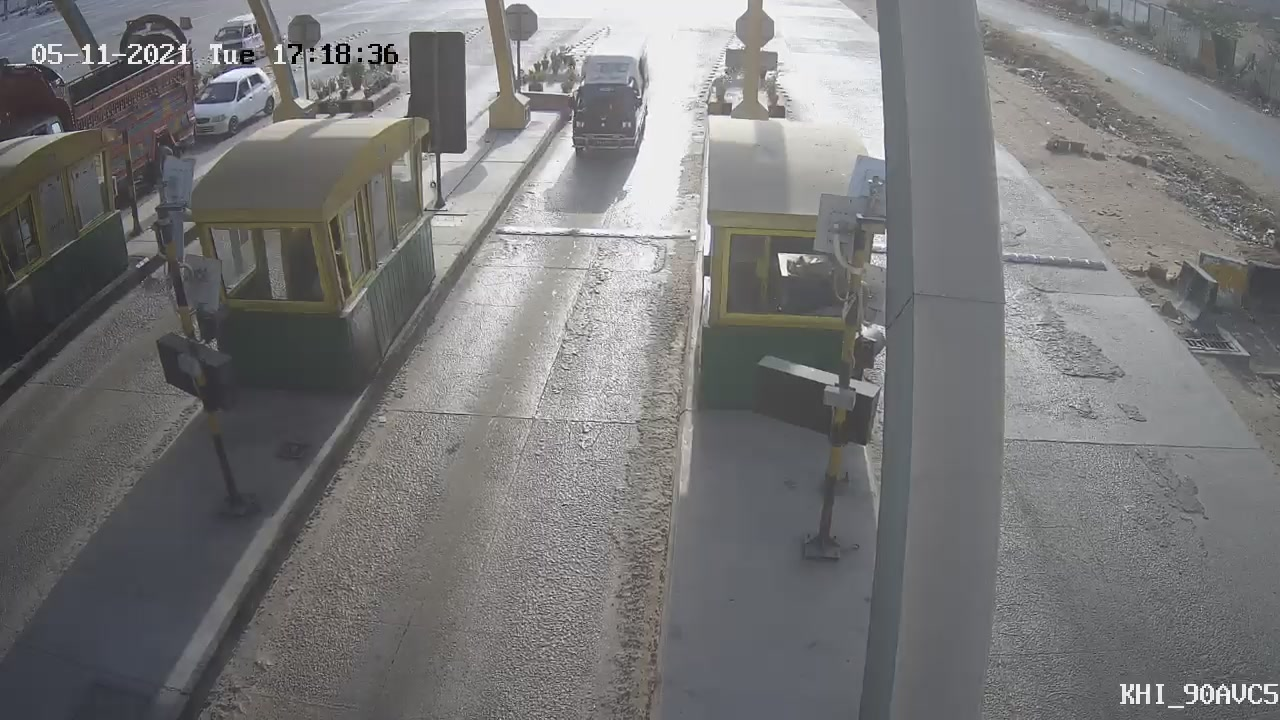F1: (550, 30, 664, 174)
